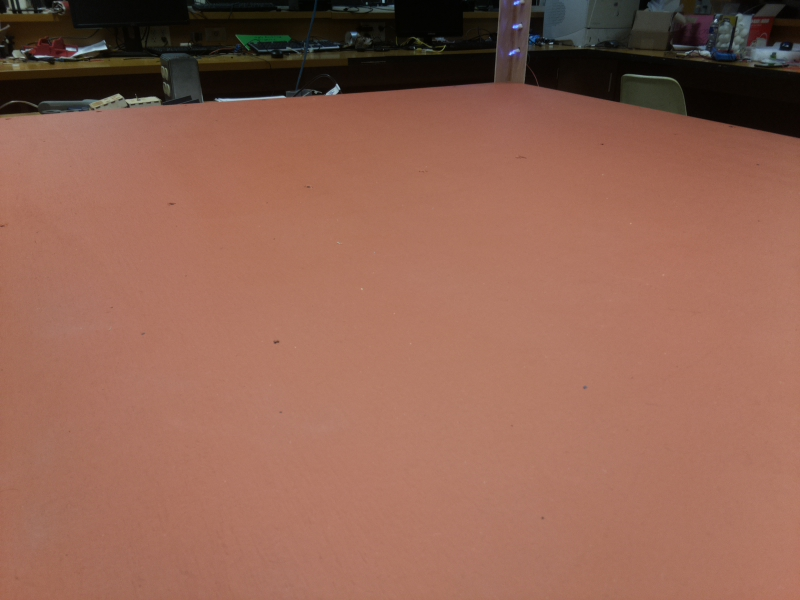corner: (494, 1, 532, 85)
